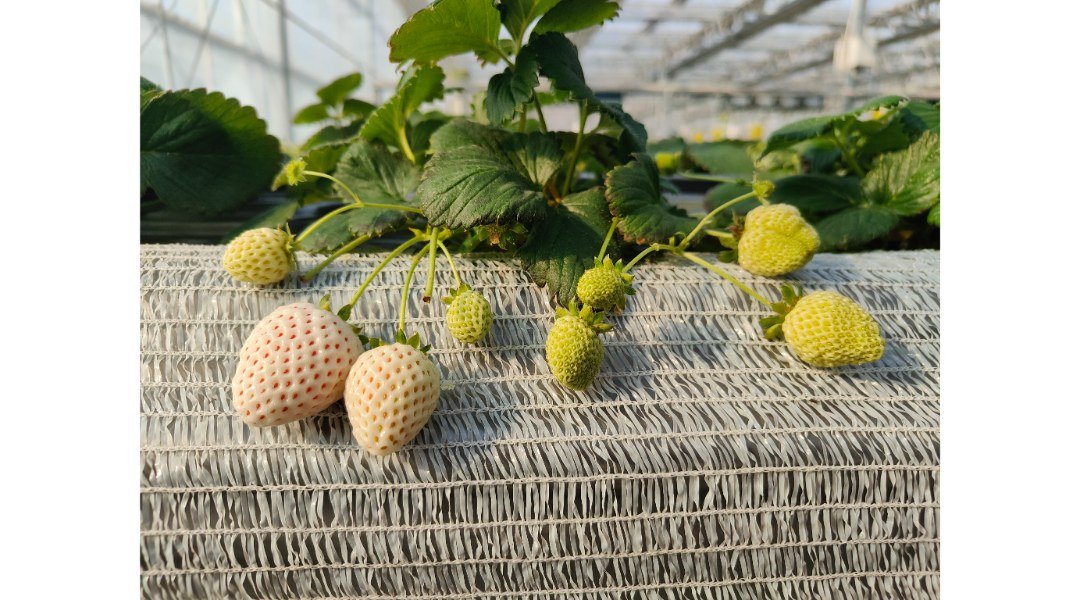berry: (226, 297, 359, 436), (349, 334, 446, 456), (766, 292, 885, 370), (736, 205, 819, 282), (542, 304, 606, 400), (215, 222, 302, 286), (571, 250, 636, 316), (446, 282, 498, 346)
strain: (688, 191, 752, 247), (363, 254, 413, 310), (308, 223, 373, 265), (698, 286, 786, 316), (683, 253, 739, 283), (400, 252, 420, 323), (313, 172, 356, 198), (373, 197, 422, 217), (440, 244, 461, 290), (596, 221, 615, 260)
